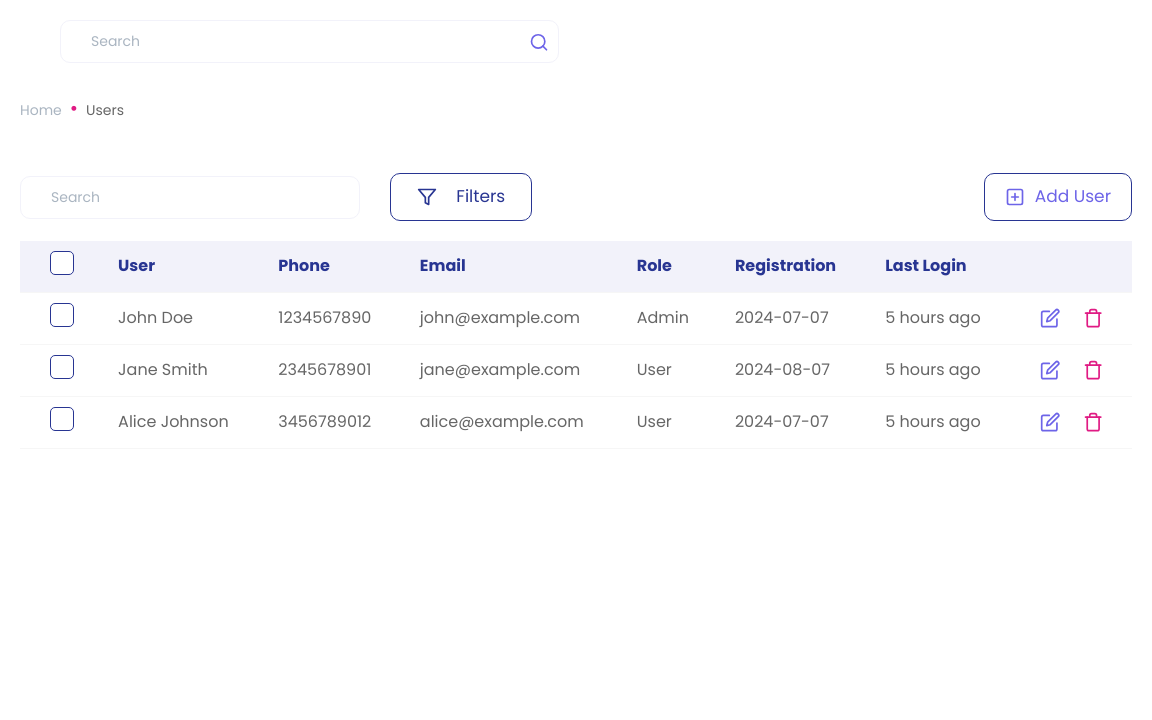
Test: UsersPage Component › should filter users by role
The image size is (1152, 720).
Click the button "Filters" at (461, 197), box 390,173 -> 532,220
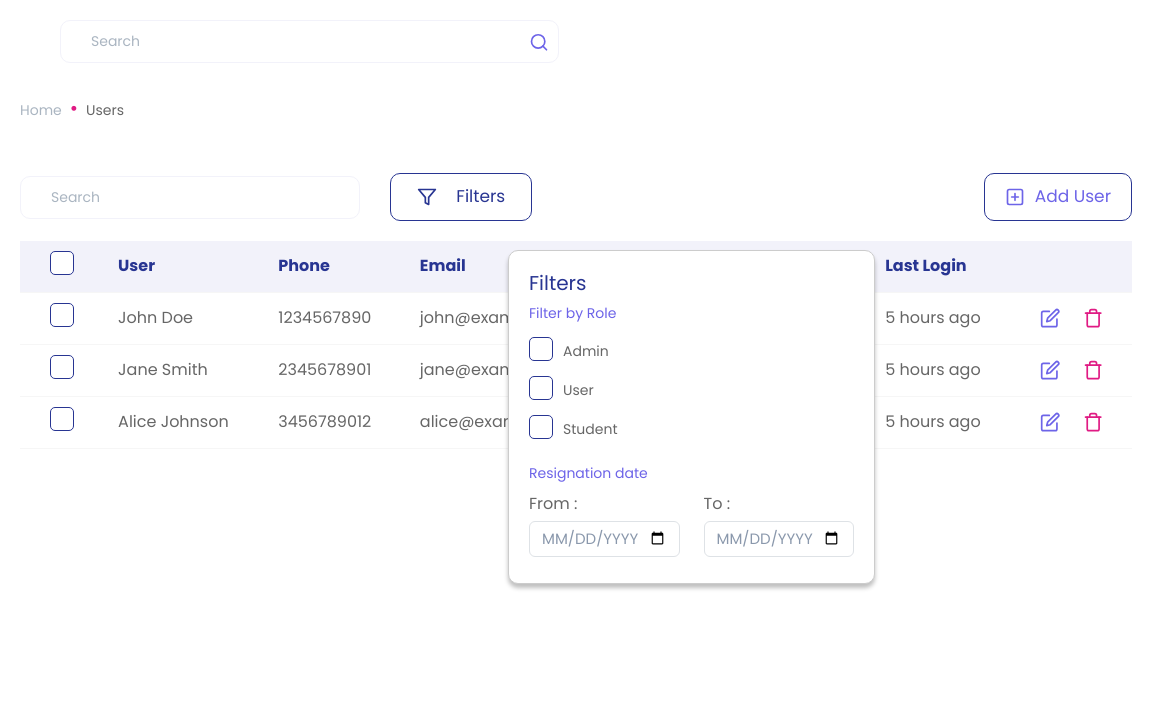
Click the 3rd checkbox labelled "Admin" at (569, 347), box 529,332 -> 609,363
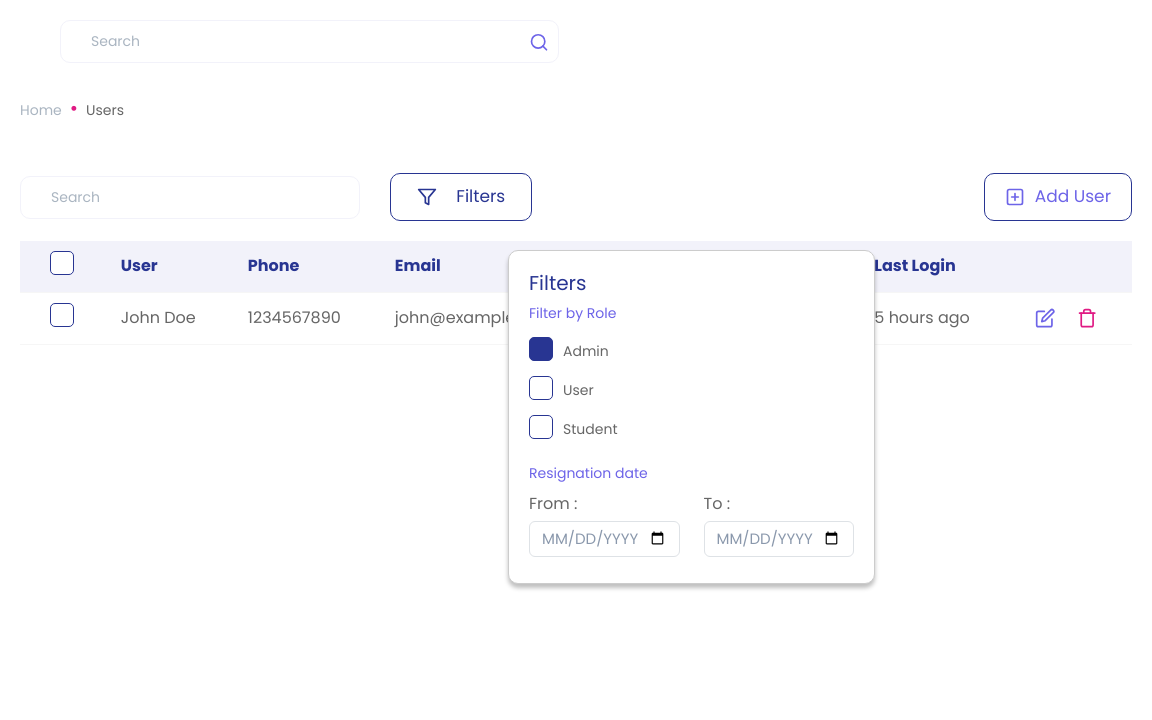
Expected: the text "John Doe" is shown, 91,292 -> 218,344
Now the text "Jane Smith" is gone
